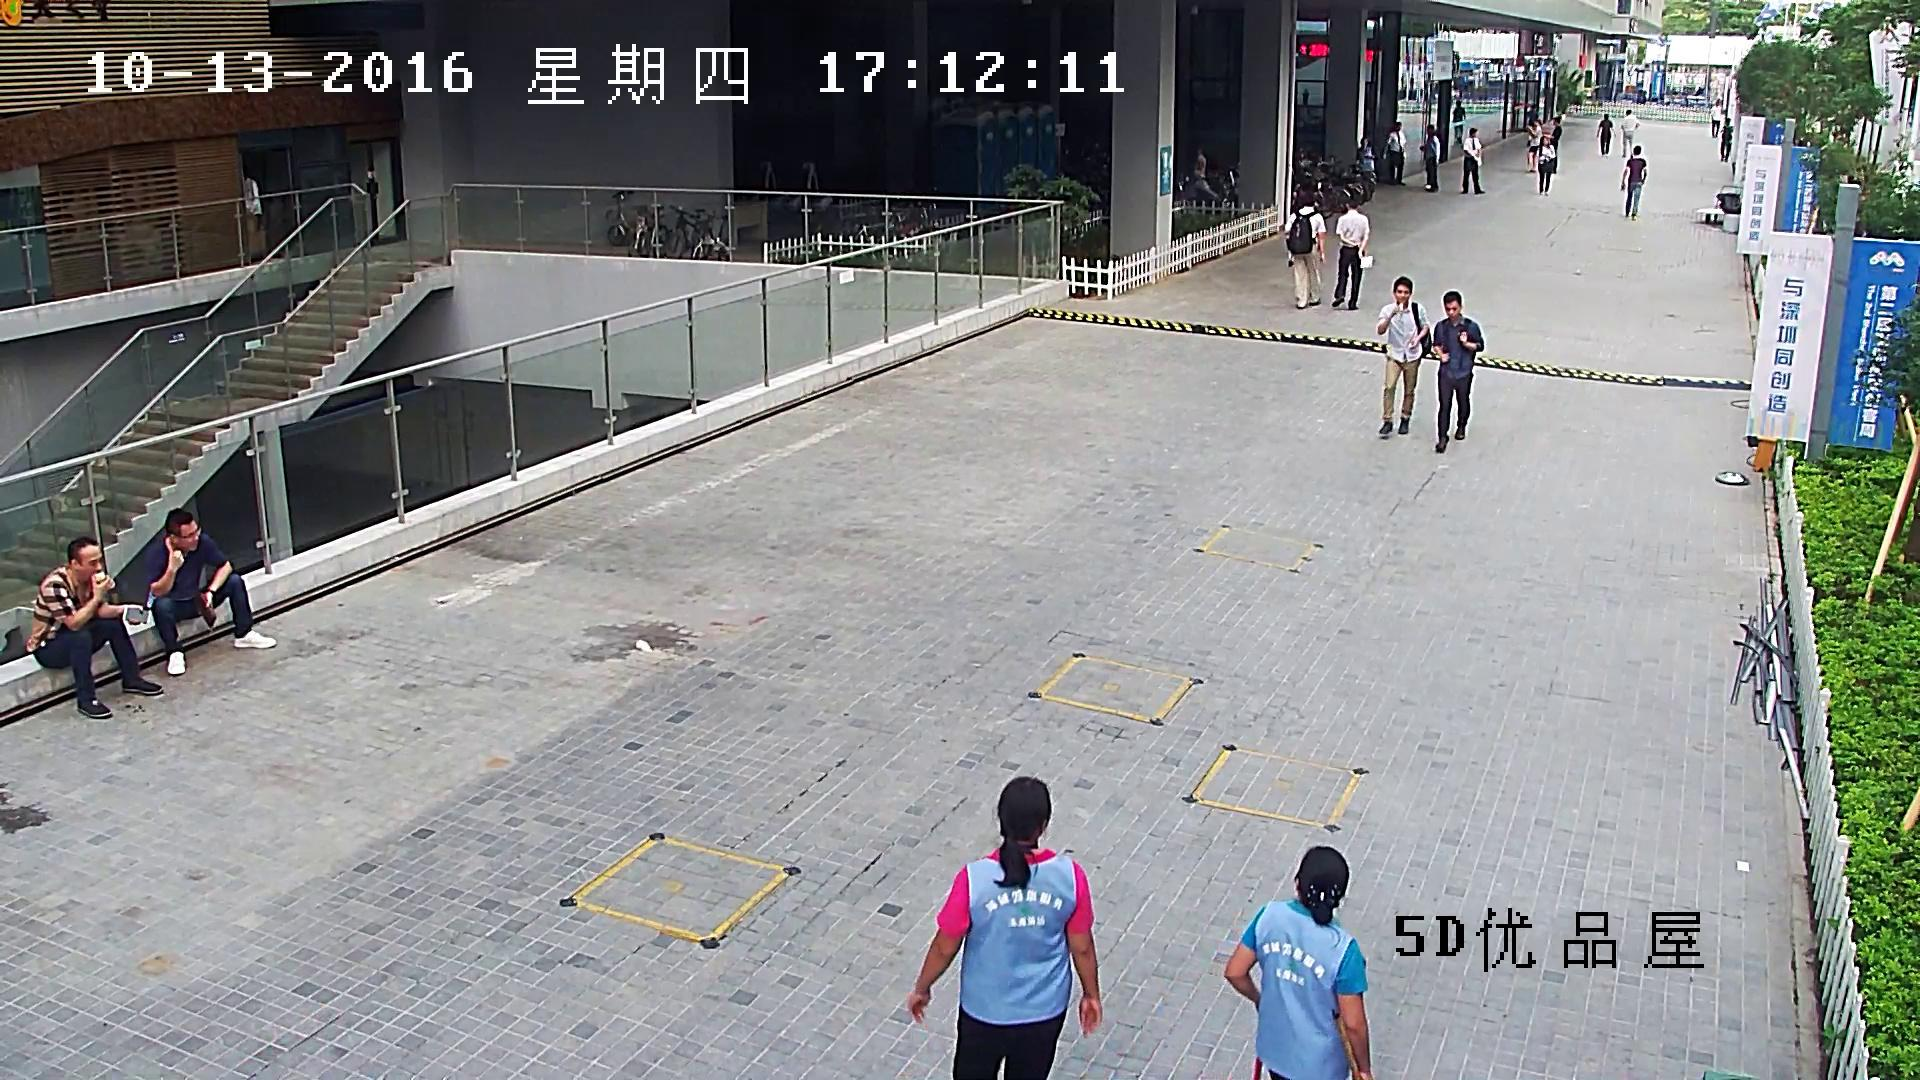person: (906, 776, 1101, 1080), (1223, 845, 1373, 1080), (25, 536, 162, 717), (144, 508, 275, 675), (1377, 275, 1431, 437), (1432, 290, 1484, 453), (1284, 194, 1325, 308), (1331, 197, 1372, 309), (1620, 144, 1647, 218), (1461, 127, 1486, 194), (1381, 121, 1406, 185), (1419, 124, 1439, 191), (1538, 136, 1555, 194), (1525, 115, 1541, 172), (1355, 136, 1376, 185), (1621, 109, 1639, 158), (1596, 114, 1616, 156), (1551, 117, 1561, 173), (1721, 118, 1733, 162), (1453, 100, 1465, 141), (1710, 100, 1720, 137)
